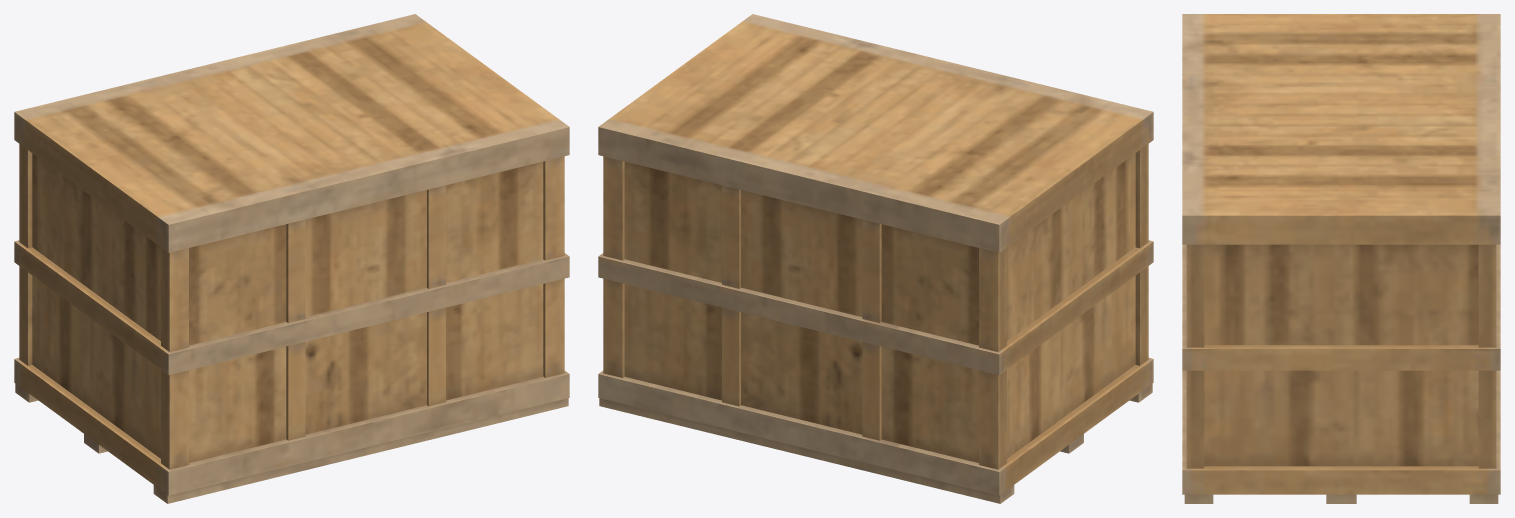
The model's file is objects_un_woodbox02.gltf.
3 renders of one model, left to right at view 1: azimuth 30°, elevation 25°; view 2: azimuth 150°, elevation 25°; view 3: azimuth 270°, elevation 25°, orthographic. The views are drawn at different scales.
Parts seen in each view (by area): view 1: um_objects_un_woodbox02_model_lod0Shape:objects_un_woodbox02; view 2: um_objects_un_woodbox02_model_lod0Shape:objects_un_woodbox02; view 3: um_objects_un_woodbox02_model_lod0Shape:objects_un_woodbox02.
Boxes of the visible parts, x1,y1,x2,y2 form: um_objects_un_woodbox02_model_lod0Shape:objects_un_woodbox02: [14, 14, 569, 503]; um_objects_un_woodbox02_model_lod0Shape:objects_un_woodbox02: [598, 14, 1153, 503]; um_objects_un_woodbox02_model_lod0Shape:objects_un_woodbox02: [1182, 14, 1500, 503].
Size of what is drawn, in the model's own units: 3 by 2 by 2.
Materials: 1 (1 with a texture image).
